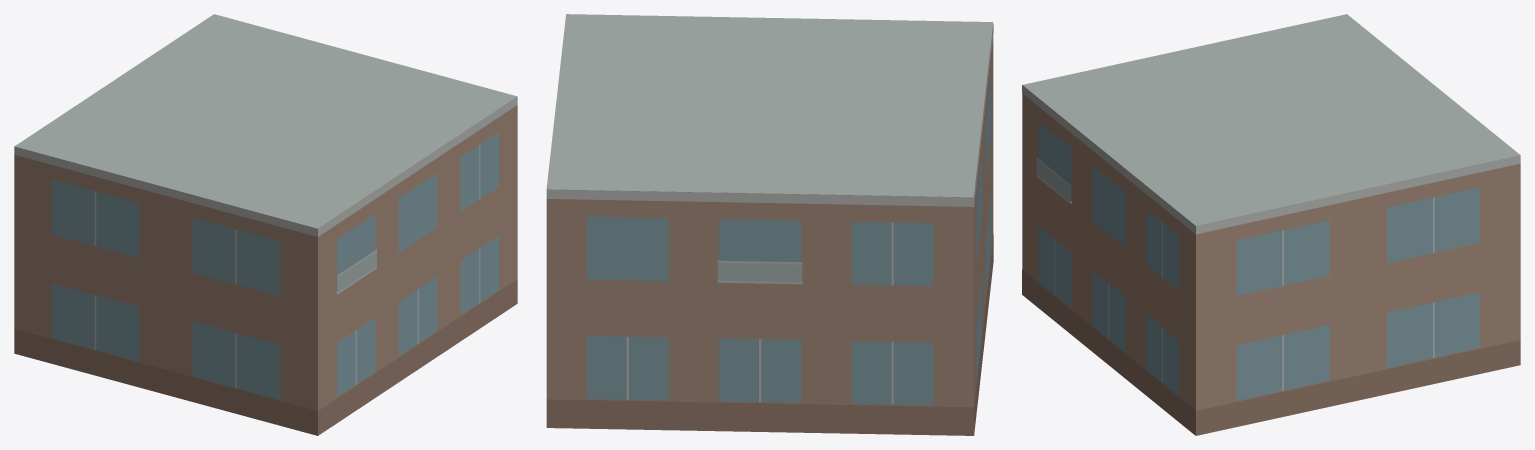
File: survey-upis-33027599.glb
The picture shows the model from 3 angles, left to right: view 1: azimuth 30°, elevation 25°; view 2: azimuth 150°, elevation 25°; view 3: azimuth 270°, elevation 25°; orthographic projection. The views are drawn at different scales.
Parts seen in each view (by area): view 1: survey-upis-33027599.tmp; view 2: survey-upis-33027599.tmp; view 3: survey-upis-33027599.tmp.
Boxes of the visible parts, x1,y1,x2,y2 form: survey-upis-33027599.tmp: [14, 14, 517, 435]; survey-upis-33027599.tmp: [546, 14, 993, 435]; survey-upis-33027599.tmp: [1022, 14, 1520, 435].
Size of the model in its own units: 13.22 by 6.1 by 13.14.
